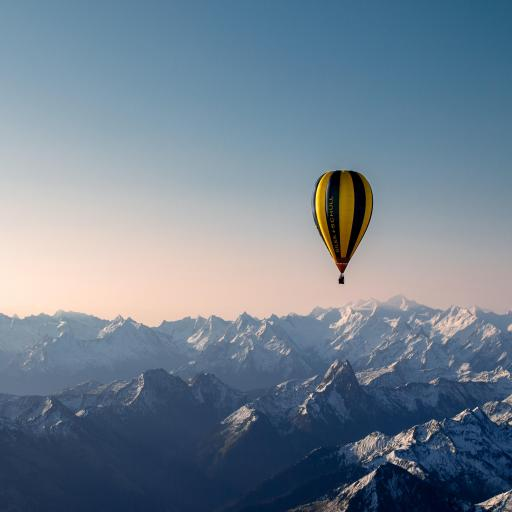hot air ballon: (311, 169, 374, 284)
